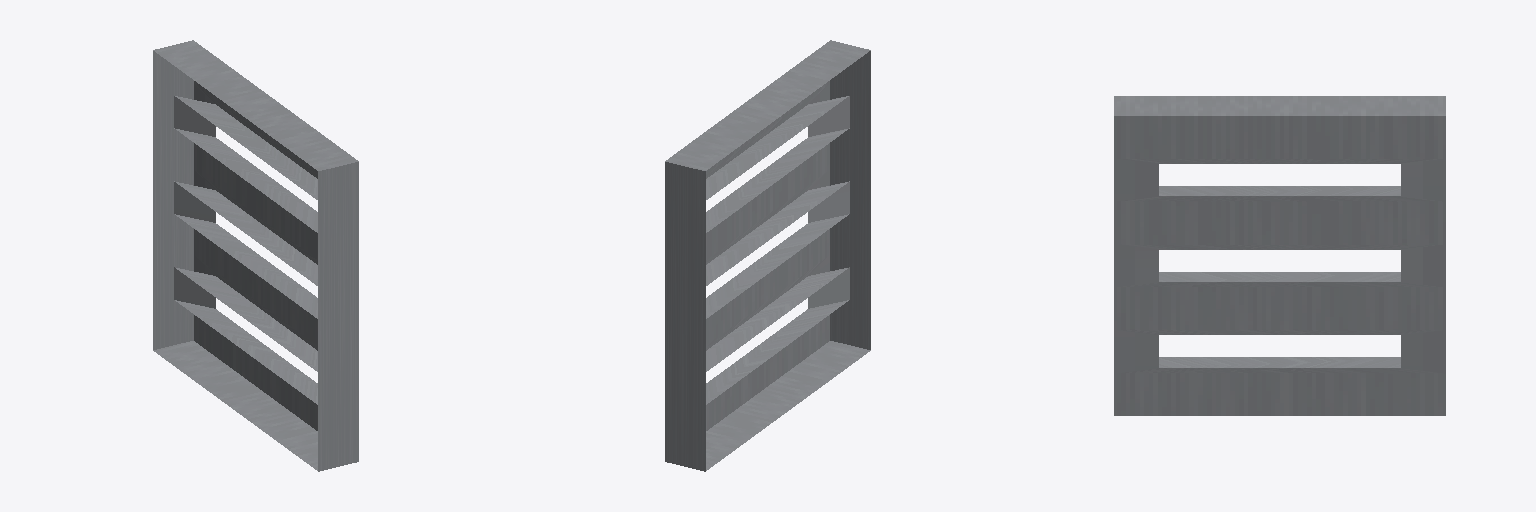
The picture shows the model from 3 angles: view 1: azimuth 30°, elevation 25°; view 2: azimuth 150°, elevation 25°; view 3: azimuth 270°, elevation 25°; orthographic projection.
Parts seen in each view (by area): view 1: Cube; view 2: Cube; view 3: Cube.
Boxes of the visible parts, <box> form: Cube: <box>153,40,358,471</box>; Cube: <box>665,40,870,471</box>; Cube: <box>1114,96,1445,415</box>.
Size of the model in its own units: 0.2838 by 2 by 2.
Materials: 1 (1 with a texture image).